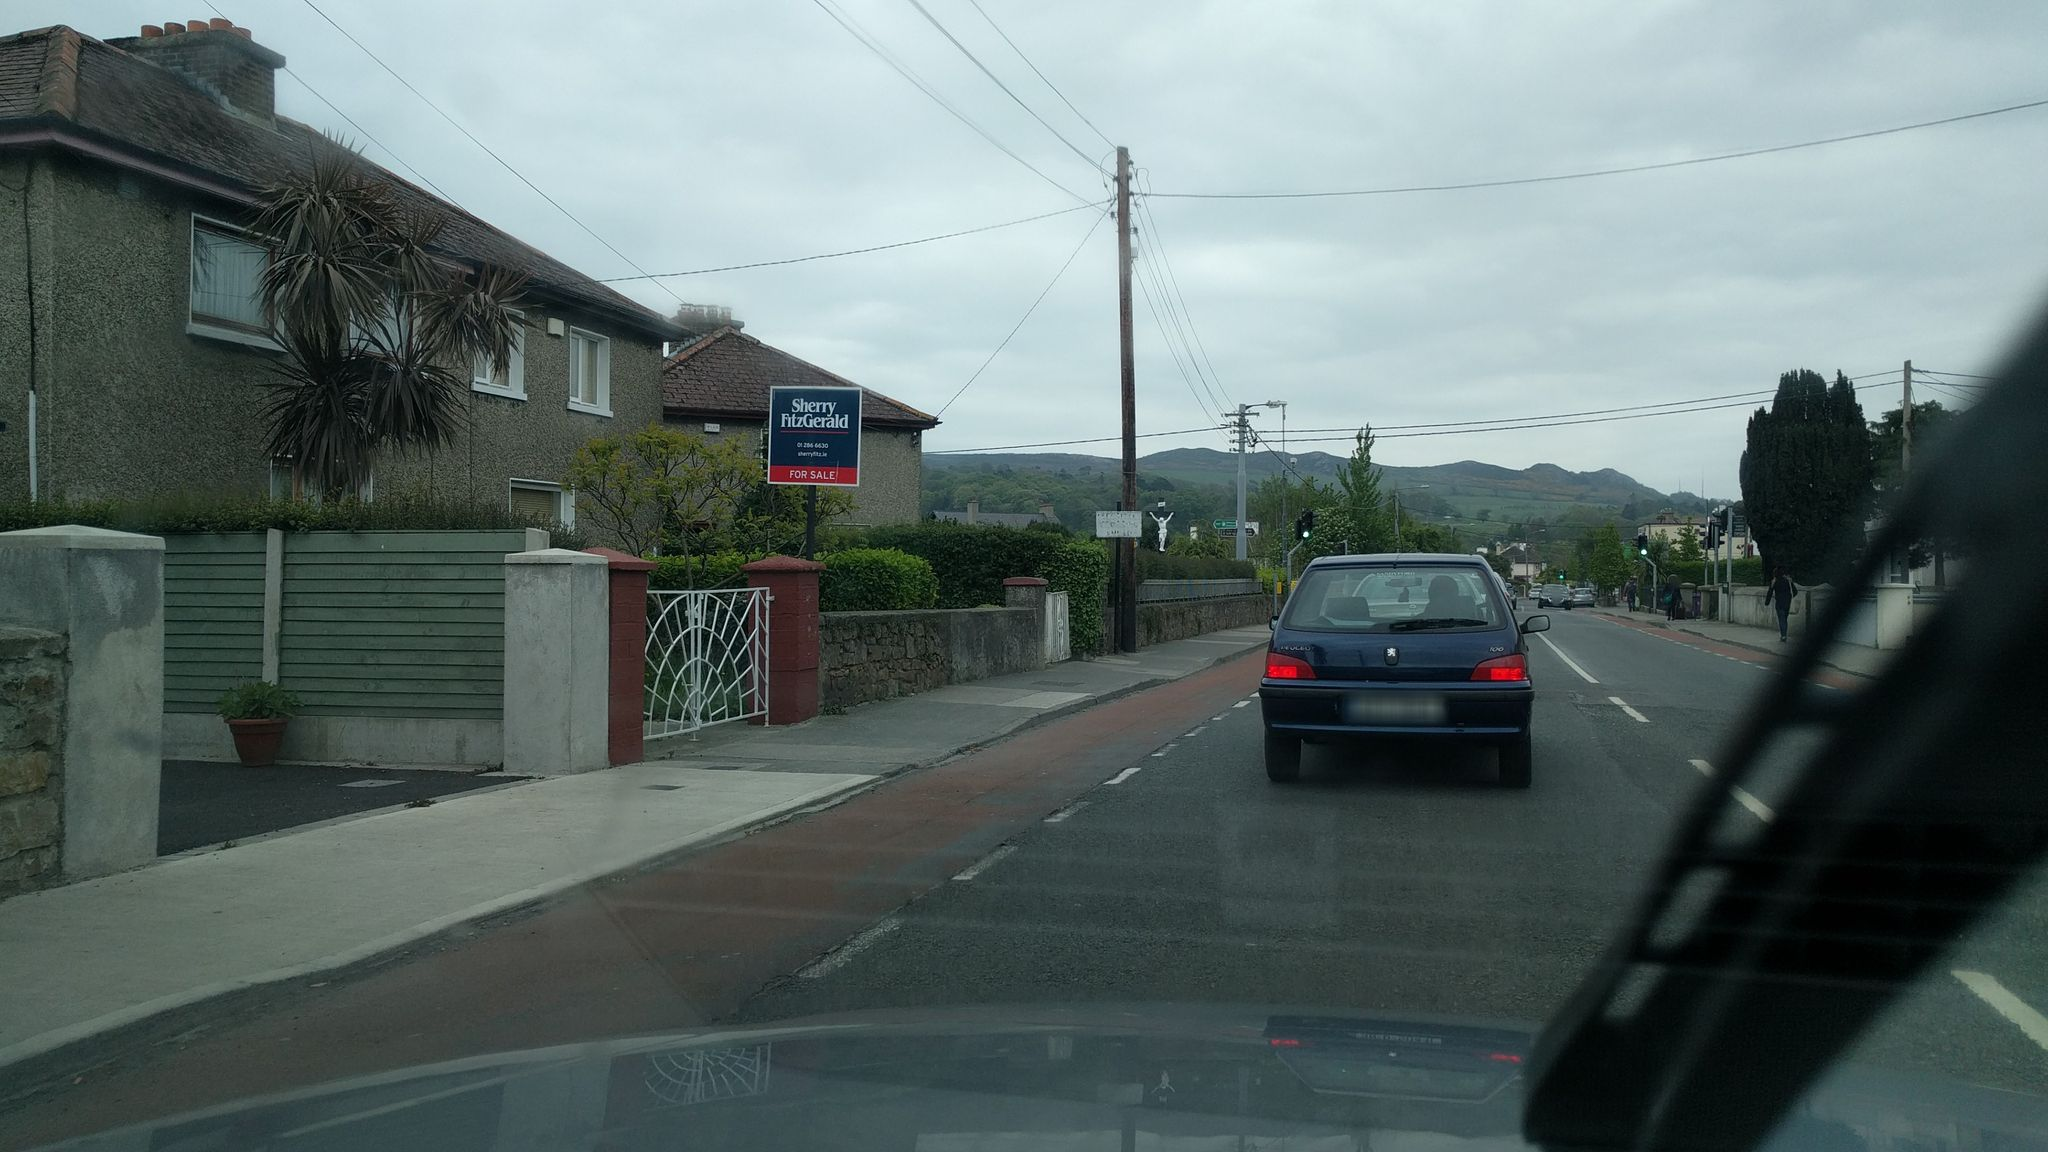property sign: (760, 364, 866, 495)
